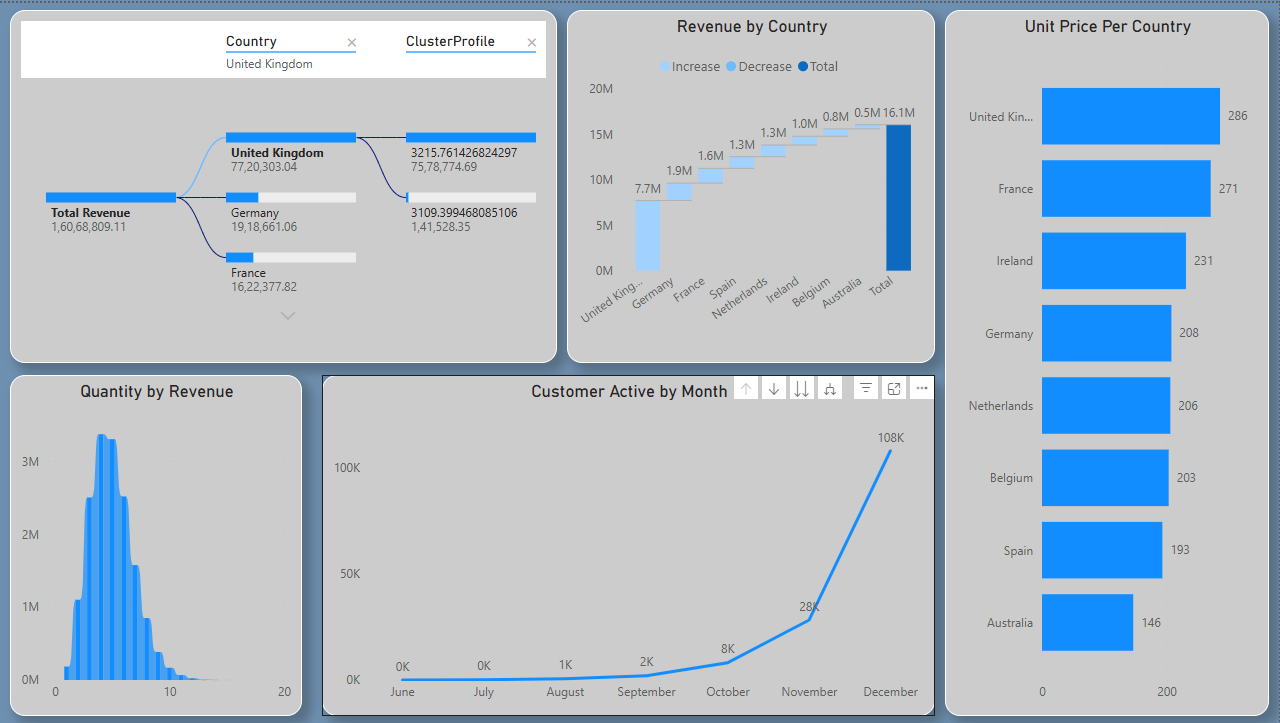

What the dashboard file says about the page in this screenshot:
{"tool":"powerbi","page":{"name":"Sales Performance and Analysis","canvas":[1280,720],"ordinal":3},"visuals":[{"type":"decompositionTreeVisual","title":"Revenue Raking by Customer Profile","fields":{"Analyze":["Sum(cleaned_transactions (2).Revenue)"],"ExplainBy":["cleaned_transactions (2).Country","customer_segments.ClusterProfile"]},"box":[11,7,547,353],"z":0},{"type":"waterfallChart","title":"Revenue by Country","fields":{"Y":["Sum(cleaned_transactions (2).Revenue)"],"Category":["cleaned_transactions (2).Country"]},"box":[568,7,368,353],"z":1},{"type":"ribbonChart","title":"Quantity by Revenue","fields":{"Y":["Sum(cleaned_transactions (2).Revenue)"],"Category":["cleaned_transactions (2).Quantity"]},"box":[10.7,371.6,292.8,341.4],"z":2},{"type":"lineChart","title":"Customer Active by Month","fields":{"Y":["CountNonNull(cleaned_transactions (2).CustomerID)"],"Category":["customer_segments.LastPurchase.Variation.Date Hierarchy.Month","customer_segments.LastPurchase.Variation.Date Hierarchy.Day"]},"box":[322.9,371.6,612.8,341.4],"z":3},{"type":"barChart","title":"Unit Price Per Country","fields":{"Category":["cleaned_transactions (2).Country"],"Y":["Max(cleaned_transactions (2).UnitPrice)"]},"box":[946,7,324,706],"z":4}]}

Visuals, with their boxes in screenshot pixels (x1, y1, x2, y2), scaled from the page's 1280x720 canvas onto the 1280x723 screenshot:
"Revenue Raking by Customer Profile" decompositionTreeVisual: crop(11, 7, 558, 362)
"Revenue by Country" waterfallChart: crop(568, 7, 936, 362)
"Quantity by Revenue" ribbonChart: crop(11, 373, 304, 716)
"Customer Active by Month" lineChart: crop(323, 373, 936, 716)
"Unit Price Per Country" barChart: crop(946, 7, 1270, 716)
